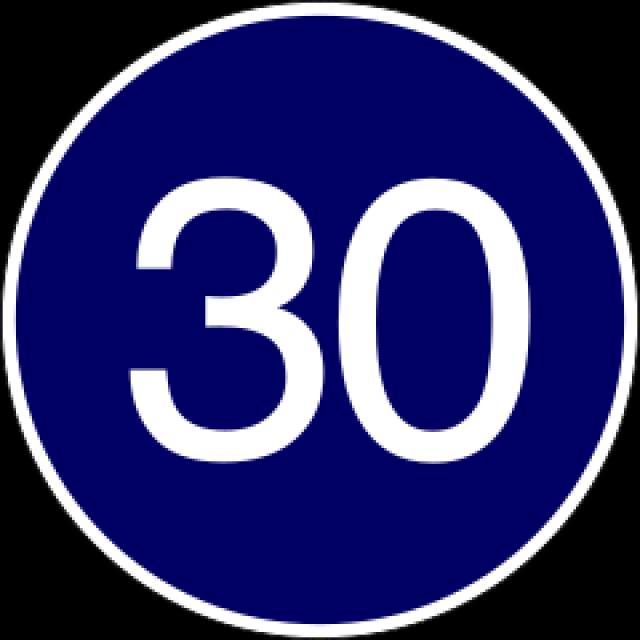Speed Limit -30-: (102, 162, 548, 488)
